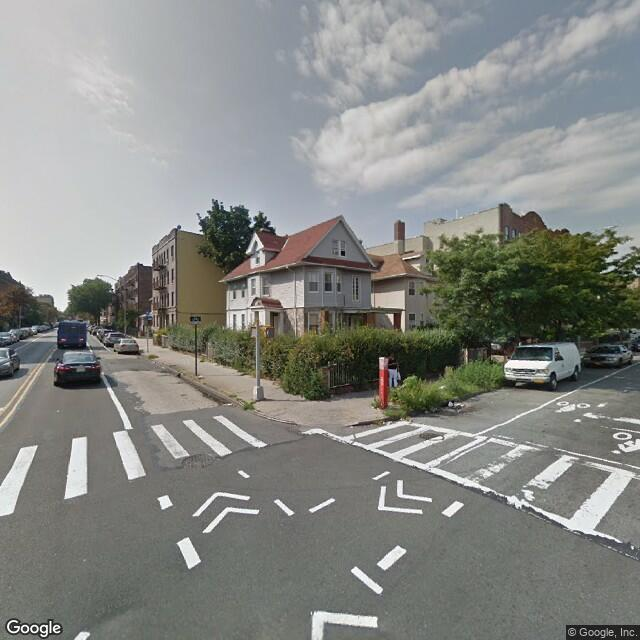litter: (443, 396, 467, 412), (193, 370, 211, 379)
